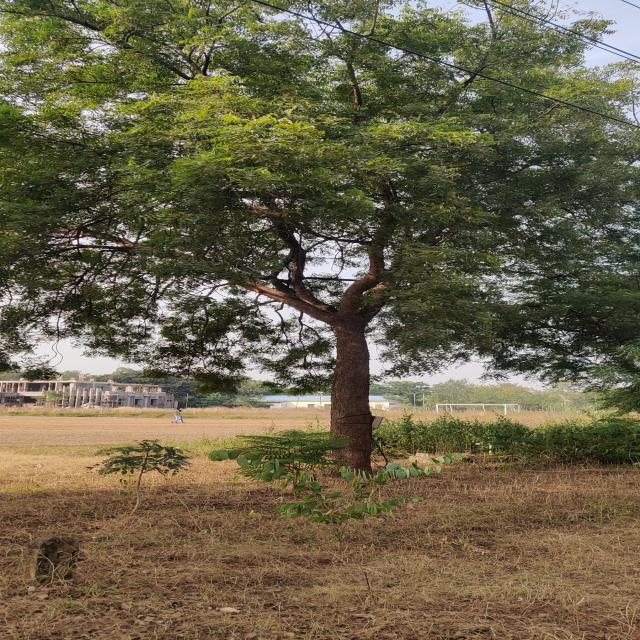Neem Tree: (68, 30, 599, 440)
